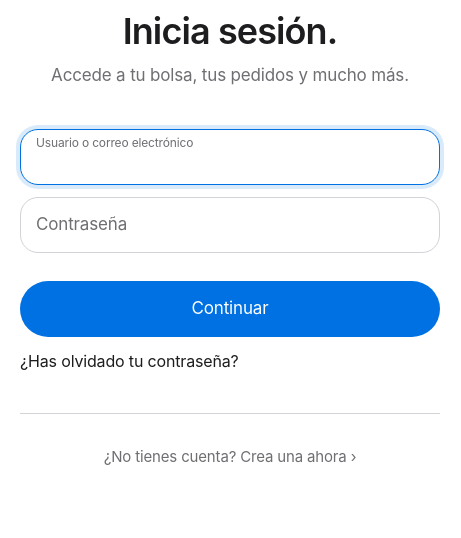
it: LoginForm › muestra el mensaje de error cuando el login falla
Type "alan@example.com" into the field labelled "Usuario o correo electrónico" at (230, 156), box x1=20 y1=128 x2=440 y2=184
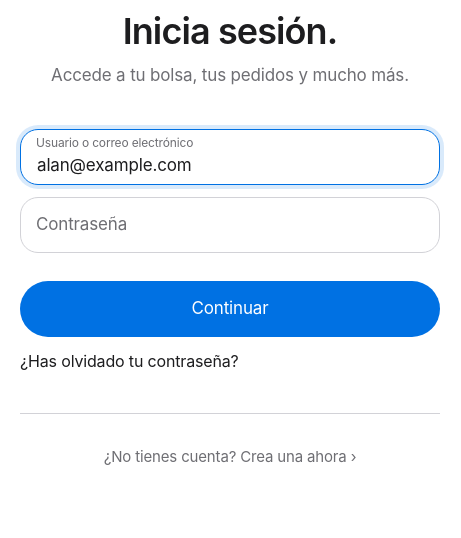
Type "malaclave" into the password field labelled "Contraseña" at (230, 224), box x1=20 y1=196 x2=440 y2=252
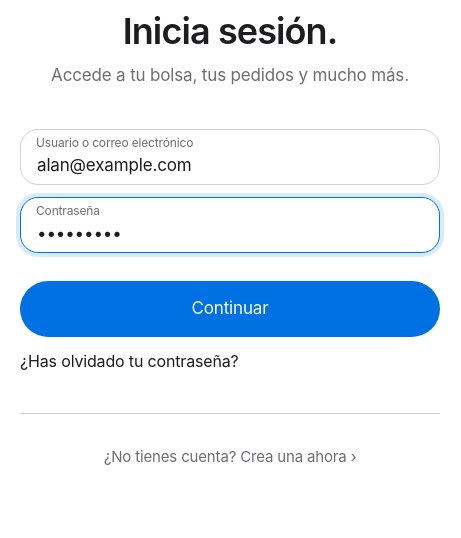
Click the button "Continuar" at (230, 308), box x1=20 y1=280 x2=440 y2=336
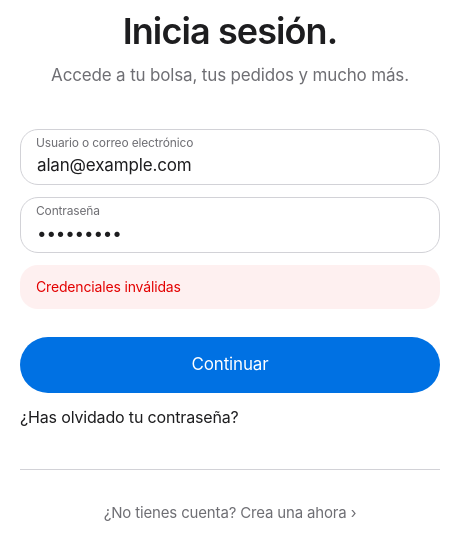
Expected: the text "Credenciales inválidas" is shown, x1=20 y1=264 x2=440 y2=308
